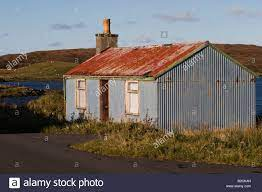Tin-shade House: (57, 25, 257, 147)
